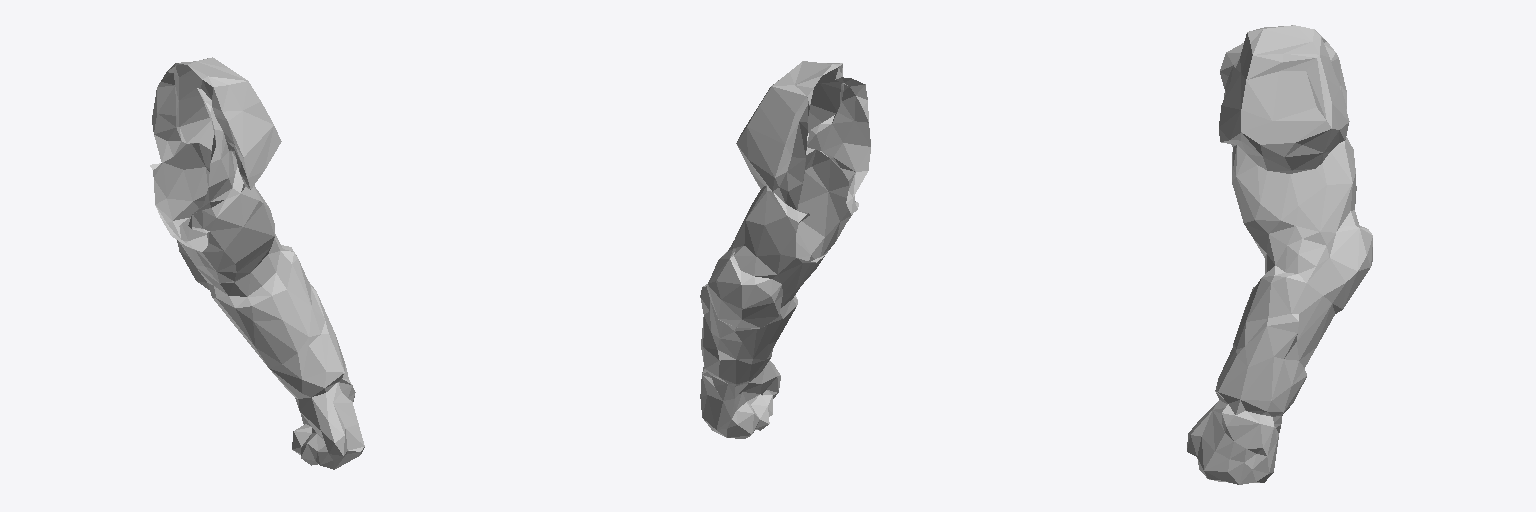
The model's file is Brazo_izq.obj.
3 views of the same model, side by side, from view 1: azimuth 30°, elevation 25°; view 2: azimuth 150°, elevation 25°; view 3: azimuth 270°, elevation 25° (orthographic).
Parts seen in each view (by area): view 1: Brazo_Izq; view 2: Brazo_Izq; view 3: Brazo_Izq.
Part boxes in pixels (bbox=[...]): Brazo_Izq: bbox=[150, 57, 364, 469]; Brazo_Izq: bbox=[700, 61, 870, 438]; Brazo_Izq: bbox=[1187, 25, 1372, 484].
Bounding box in the file's own units: 0.296 × 0.7377 × 0.3109.